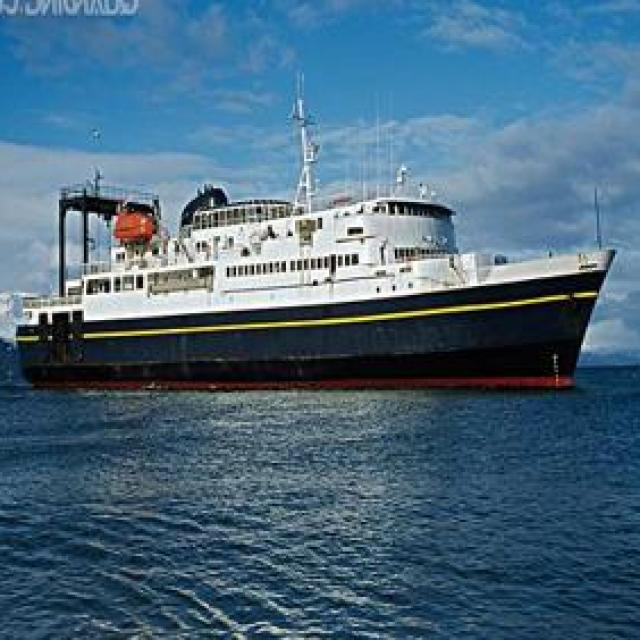passenger ship: (15, 173, 605, 383)
